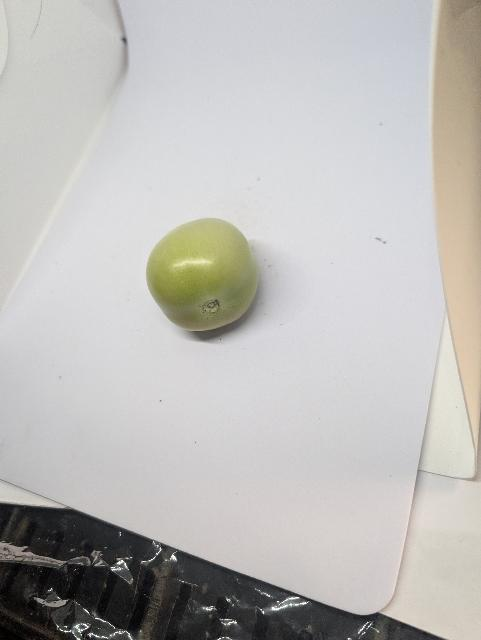green: (144, 215, 262, 336)
